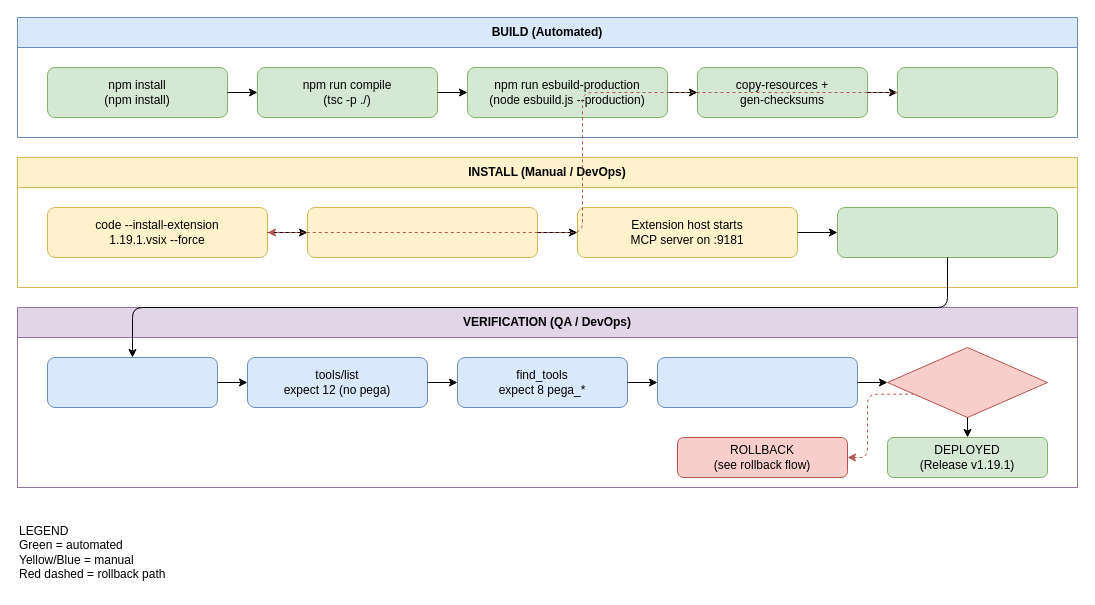
This 1095x605 diagram has some shape labels left out. Each missing label, with the centre of its shape:
"All checks pass?" belongs at (967,382).
"execute_dynamic_tool live Pega (SSA@TGB)" belongs at (757,382).
"Health check curl :9181/health" belongs at (132,382).
"npx vsce package (1.19.1.vsix, 5.03 MB)" belongs at (977,92).
"Pega tools registered (8 hidden local tools)" belongs at (947,232).
"Reload VS Code window (Developer: Reload Window)" belongs at (422,232).
